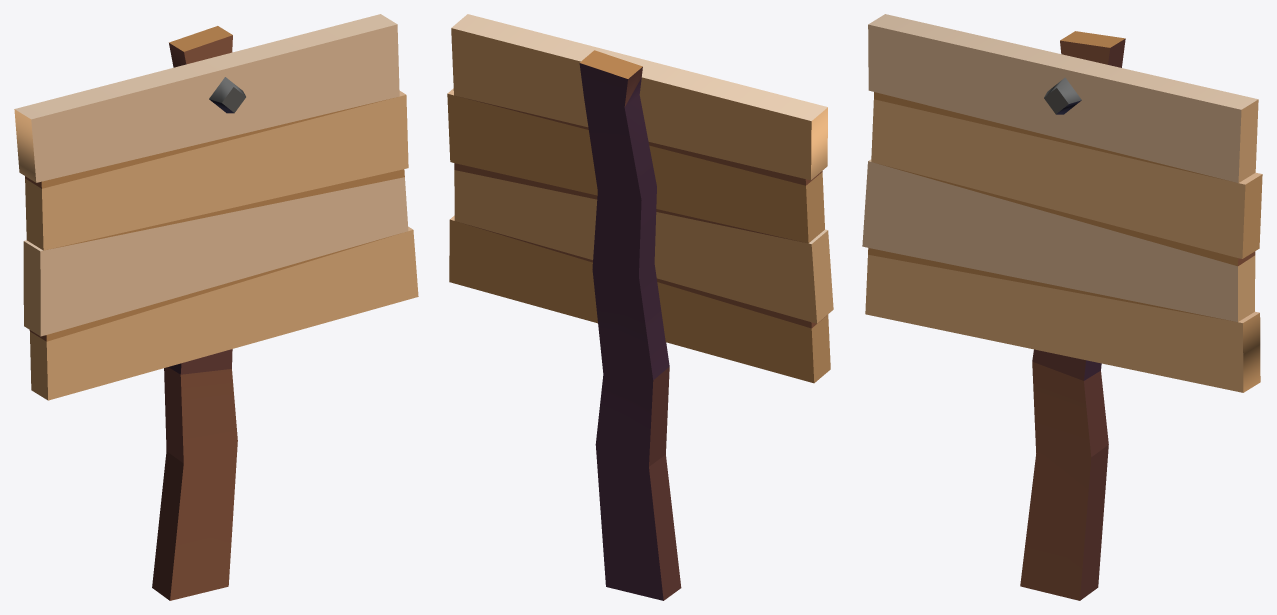
Rendered from mesh_signpost.fbx.
3 renders of one model, left to right at view 1: azimuth 30°, elevation 25°; view 2: azimuth 150°, elevation 25°; view 3: azimuth 330°, elevation 25°, orthographic. The views are drawn at different scales.
Parts seen in each view (by area): view 1: pCylinder2; view 2: pCylinder2; view 3: pCylinder2.
Part boxes in pixels (<box>): pCylinder2: <box>14,14,418,600</box>; pCylinder2: <box>447,14,833,600</box>; pCylinder2: <box>862,14,1262,600</box>.
Size of the model in its own units: 0.7146 by 0.9721 by 0.1408.
